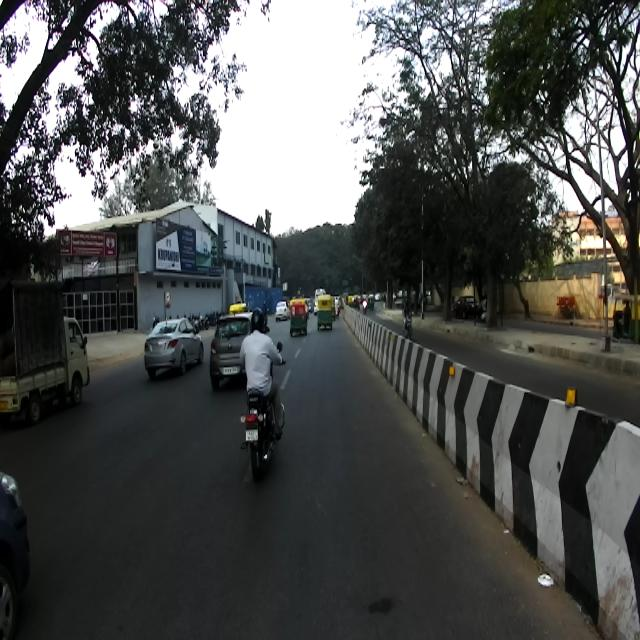car ahead at: (145, 320, 205, 382)
motorcycle ahead at: (240, 383, 285, 478)
